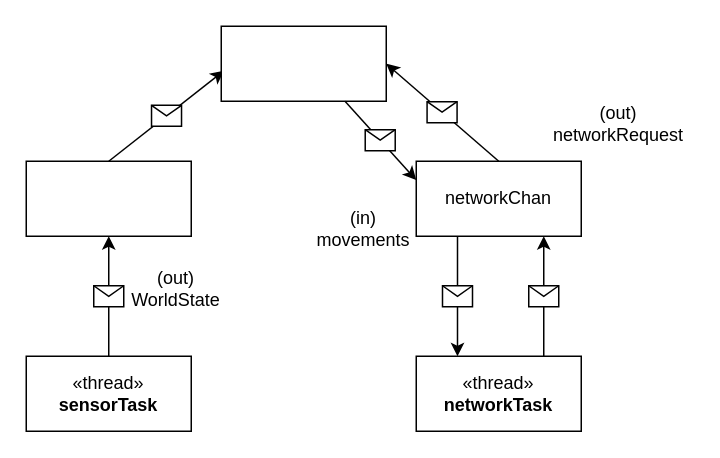
This 720x458 diagram has some shape labels left out. The centre of each missing label's shape, as x and y in pixels:
sensorChan: point (108, 198)
«thread» controlTask: point (303, 63)
